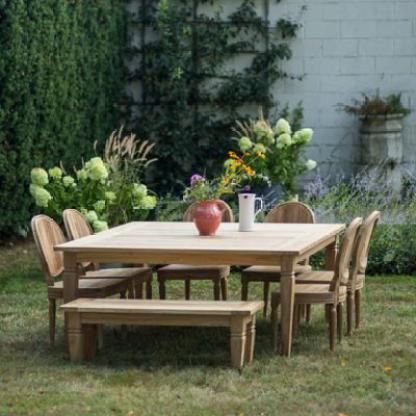table: (48, 214, 352, 362)
